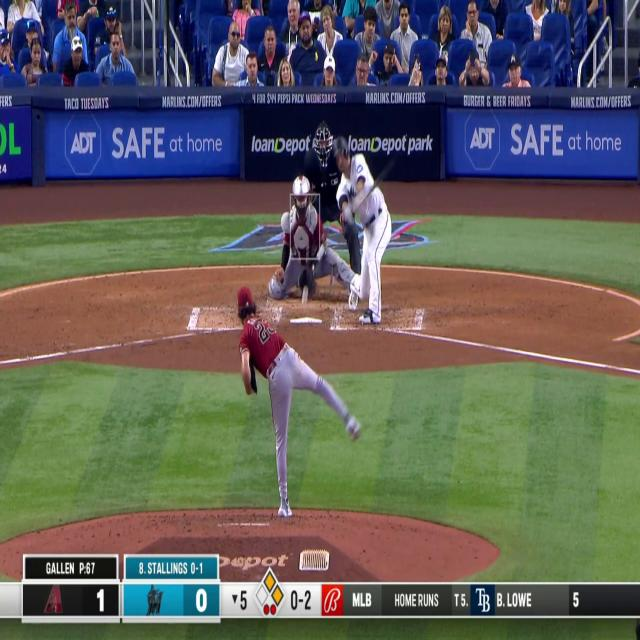baseball: (301, 286, 310, 306)
